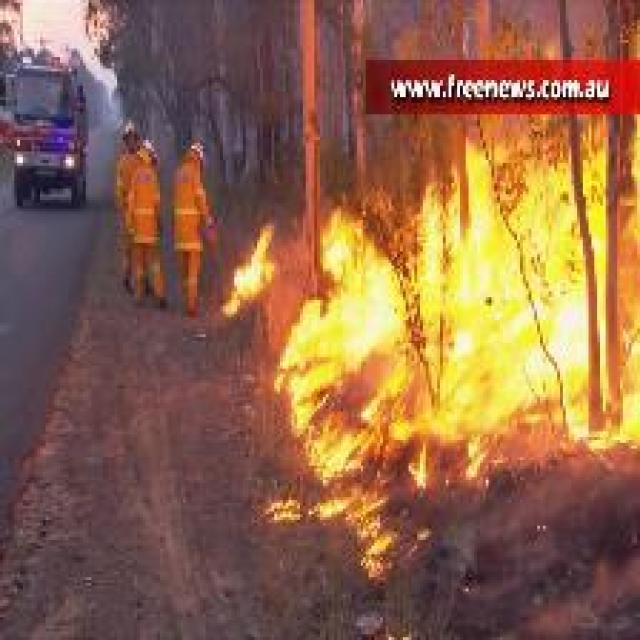Fire: (263, 137, 640, 580), (225, 220, 278, 320)
